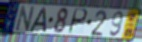2: (90, 9, 108, 38)
8: (53, 7, 70, 35)
9: (108, 10, 124, 38)
A: (28, 7, 47, 33)
N: (14, 4, 36, 32)
P: (67, 7, 89, 36)
